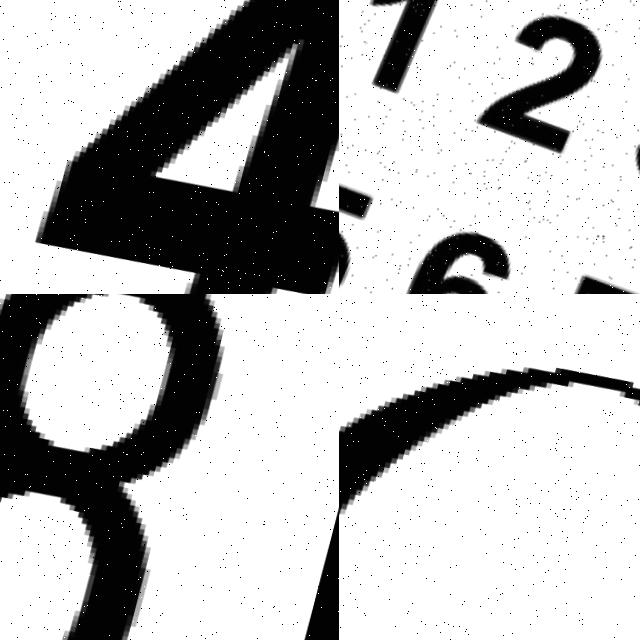1: (339, 0, 457, 111)
2: (465, 0, 621, 173)
3: (615, 55, 640, 222)
5: (339, 157, 385, 294)
6: (377, 209, 531, 294)
8: (0, 294, 253, 640)
G: (339, 294, 640, 640)
